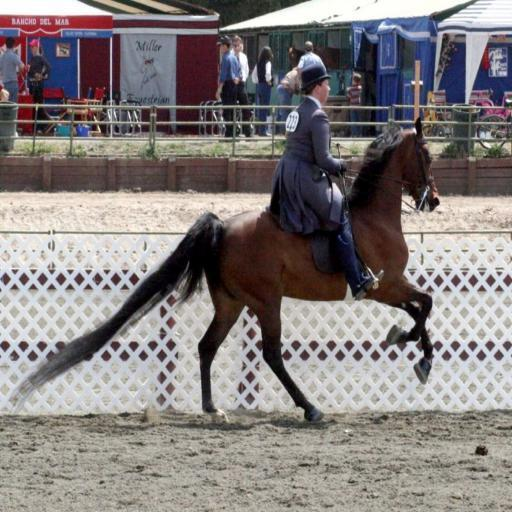horse: (5, 114, 442, 424)
